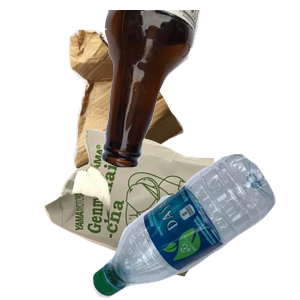cardboard: (66, 27, 242, 197)
glass: (99, 10, 300, 170)
plastic: (90, 154, 300, 300)
trash: (42, 126, 249, 300)
